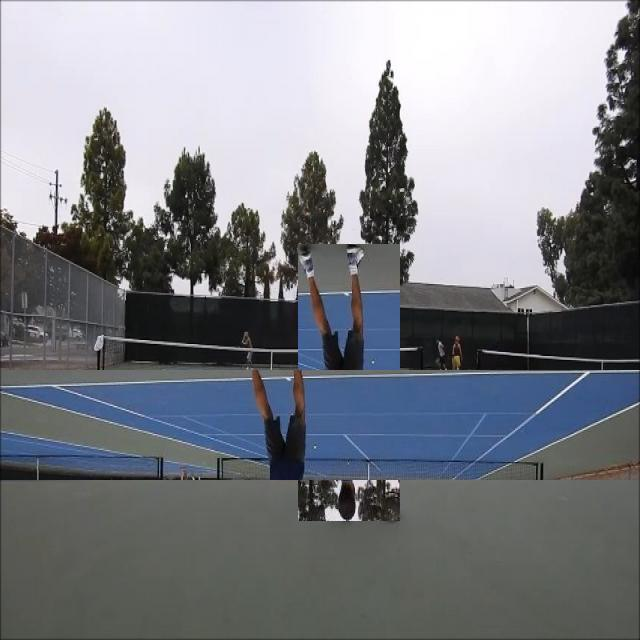court: (0, 370, 640, 480)
player: (298, 244, 400, 521)
